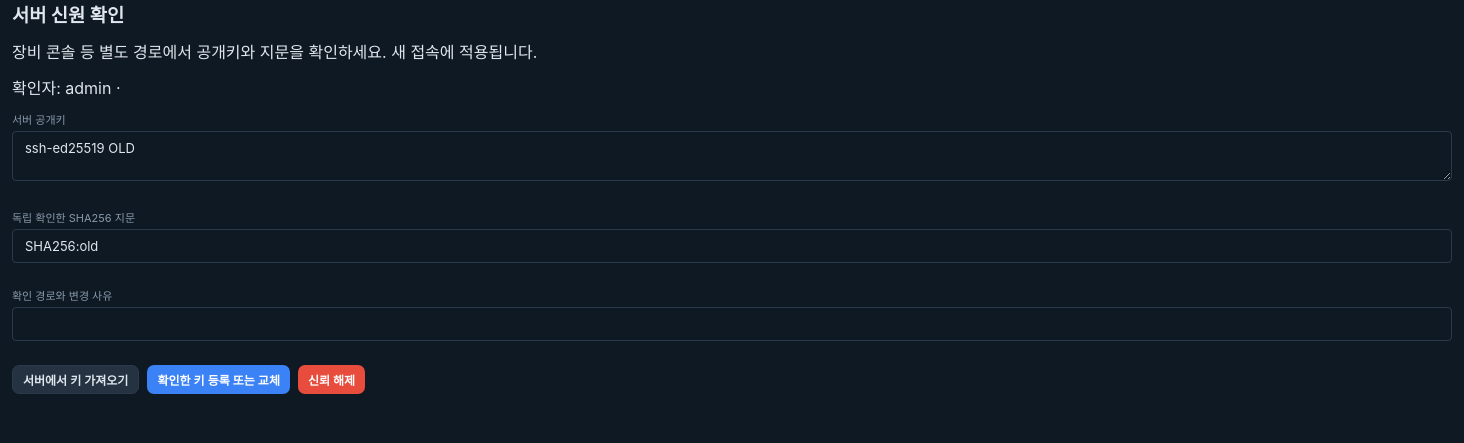
Test: preserves previous fingerprint when replacing and shows conflict
Replace the text in the text box labelled "서버 공개키" with "ssh-ed25519 NEW" at (732, 156), box left=12, top=131, right=1452, bottom=181
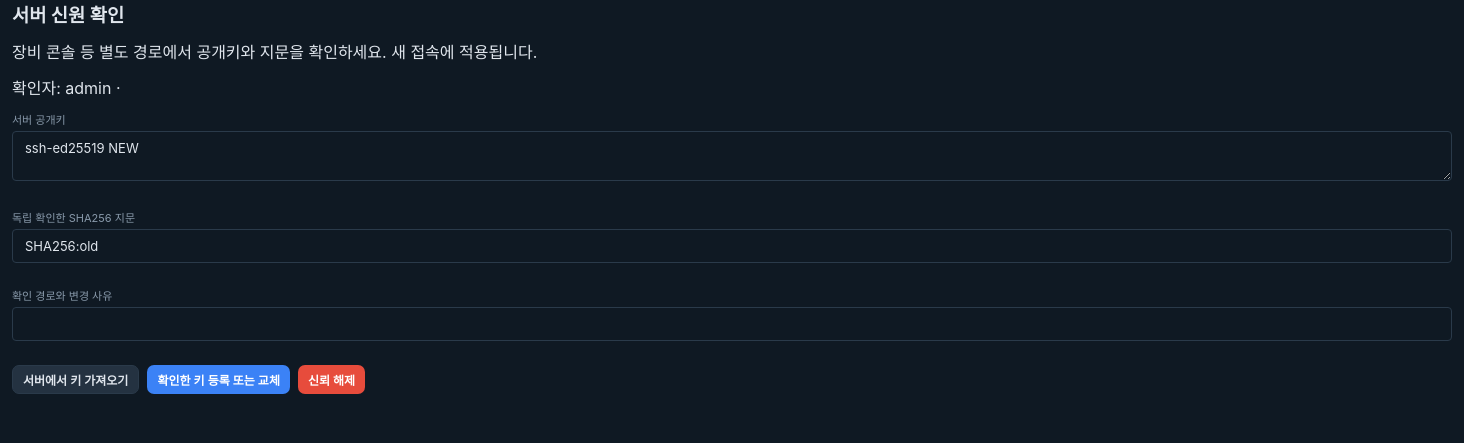
Replace the text in the field labelled "독립 확인한 SHA256 지문" with "SHA256:new" at (732, 246), box left=12, top=229, right=1452, bottom=263
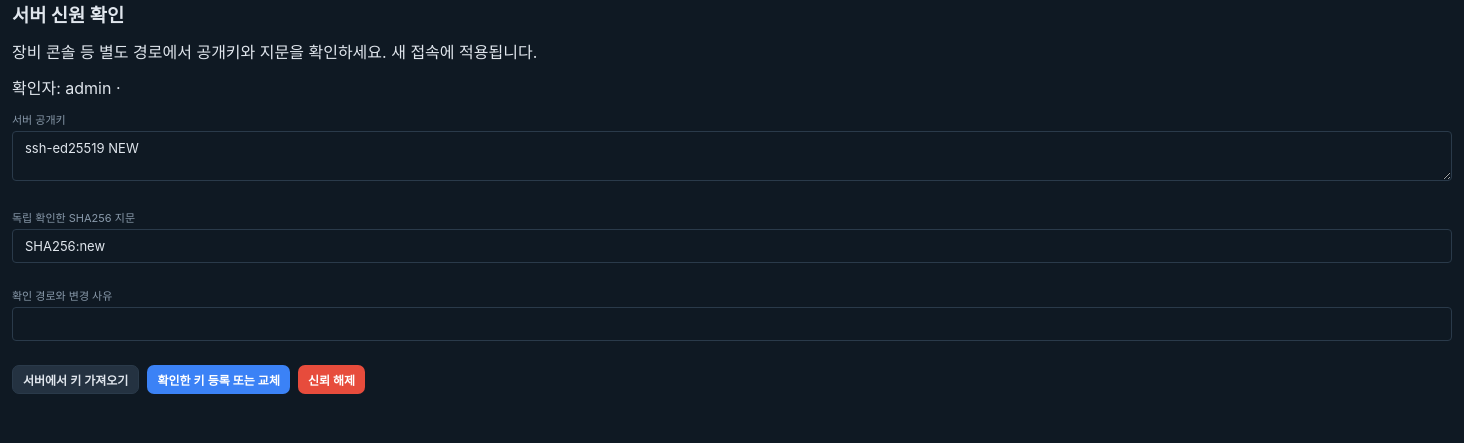
Type "console verified rotation" into the field labelled "확인 경로와 변경 사유" at (732, 324), box left=12, top=307, right=1452, bottom=341
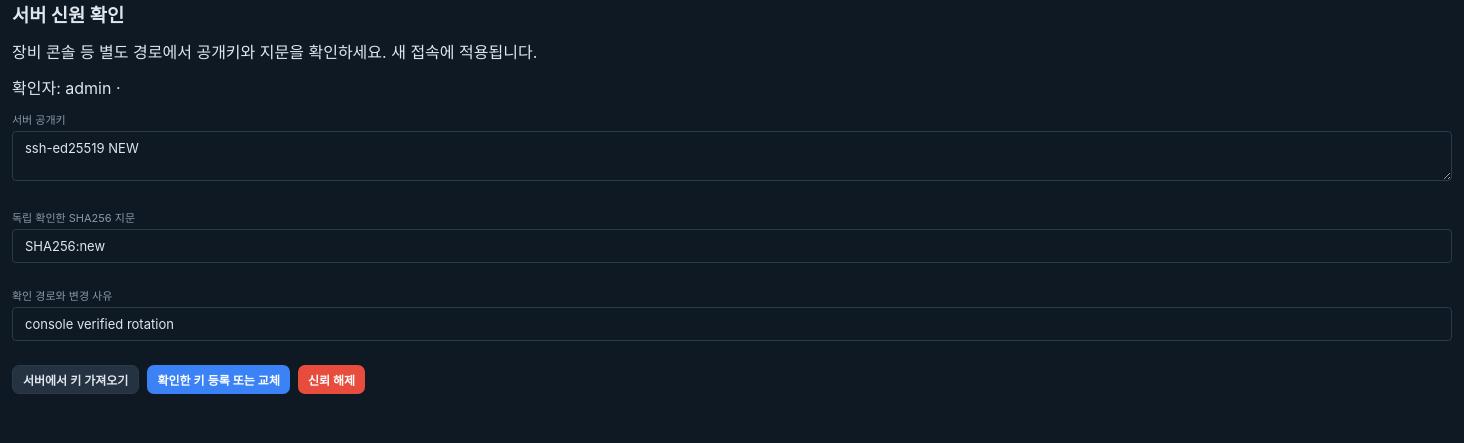
Click the button "확인한 키 등록 또는 교체" at (219, 380), box left=147, top=365, right=290, bottom=394
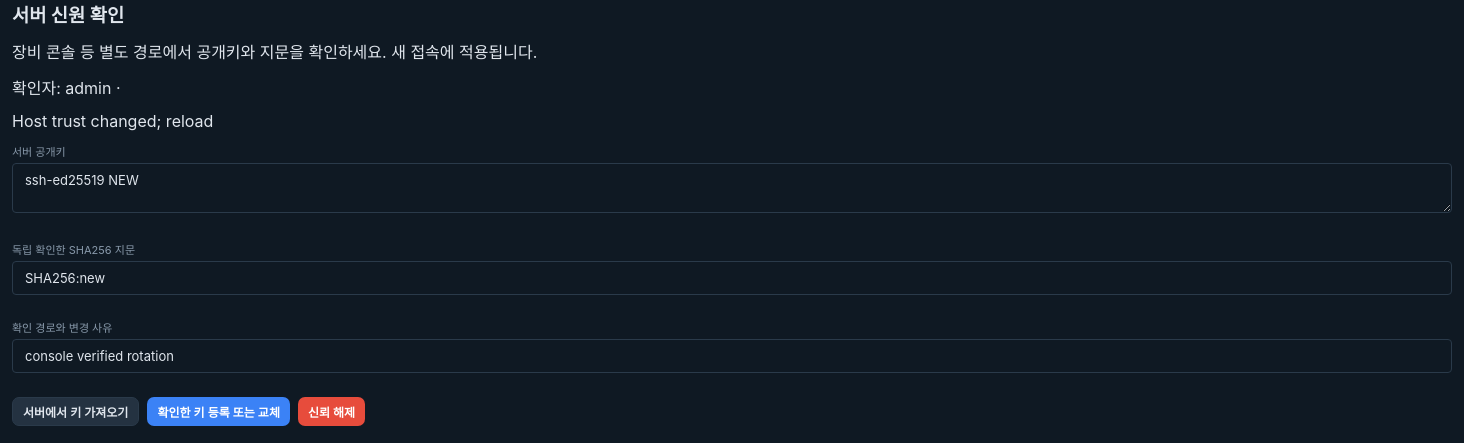
Check: the text "Host trust changed; reload" is shown, box left=12, top=111, right=213, bottom=131
